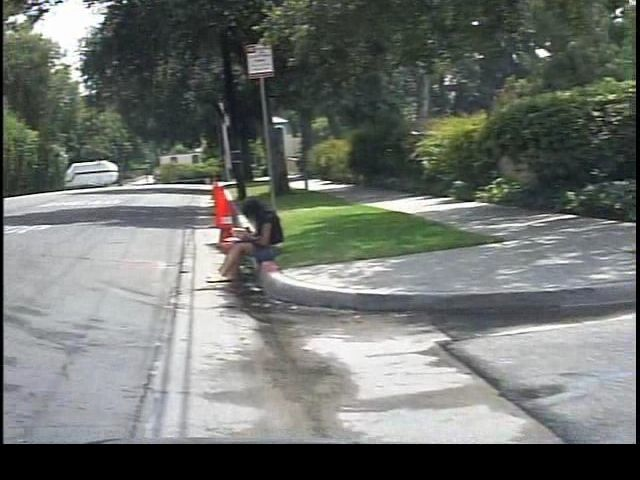person: (196, 193, 283, 285)
